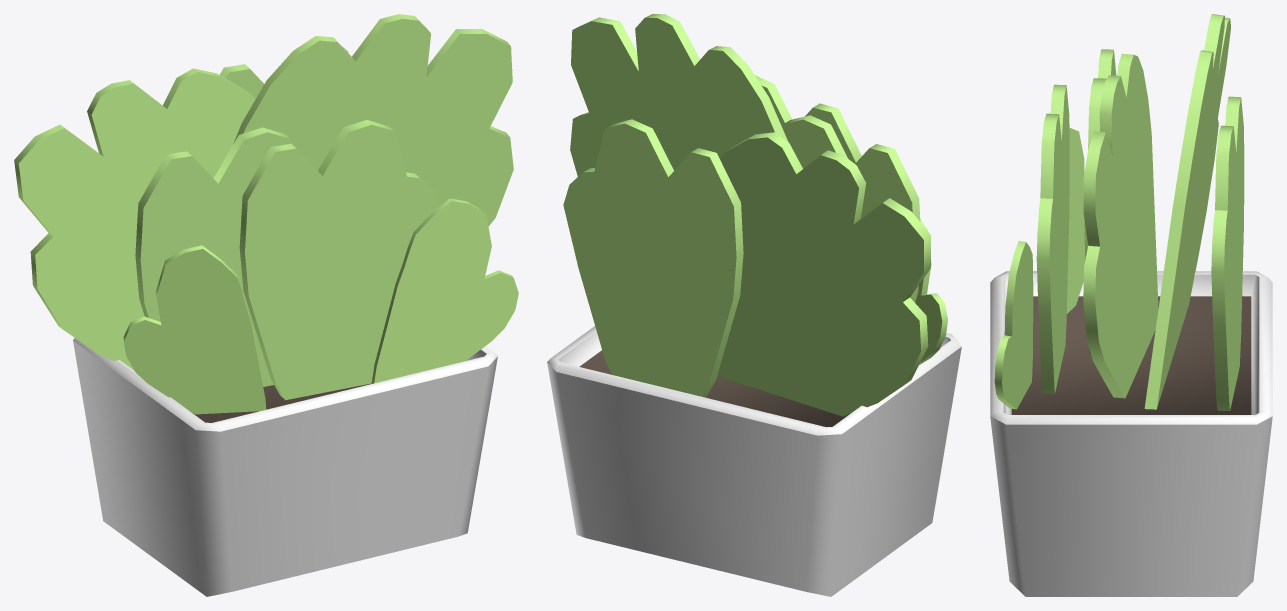
The model's file is bush.fbx.
The picture shows the model from 3 angles, left to right: view 1: azimuth 30°, elevation 25°; view 2: azimuth 150°, elevation 25°; view 3: azimuth 270°, elevation 25°; orthographic projection. The views are drawn at different scales.
Visible parts, largest first — view 1: sm_leafs.001; view 2: sm_leafs.001; view 3: sm_leafs.001.
Boxes of the visible parts, x1,y1,x2,y2 form: sm_leafs.001: (14, 14, 518, 596); sm_leafs.001: (547, 14, 961, 596); sm_leafs.001: (990, 14, 1272, 596).
Bounding box in the file's own units: 174 × 190 × 97.
